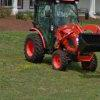Tractor: (19, 2, 100, 82)
